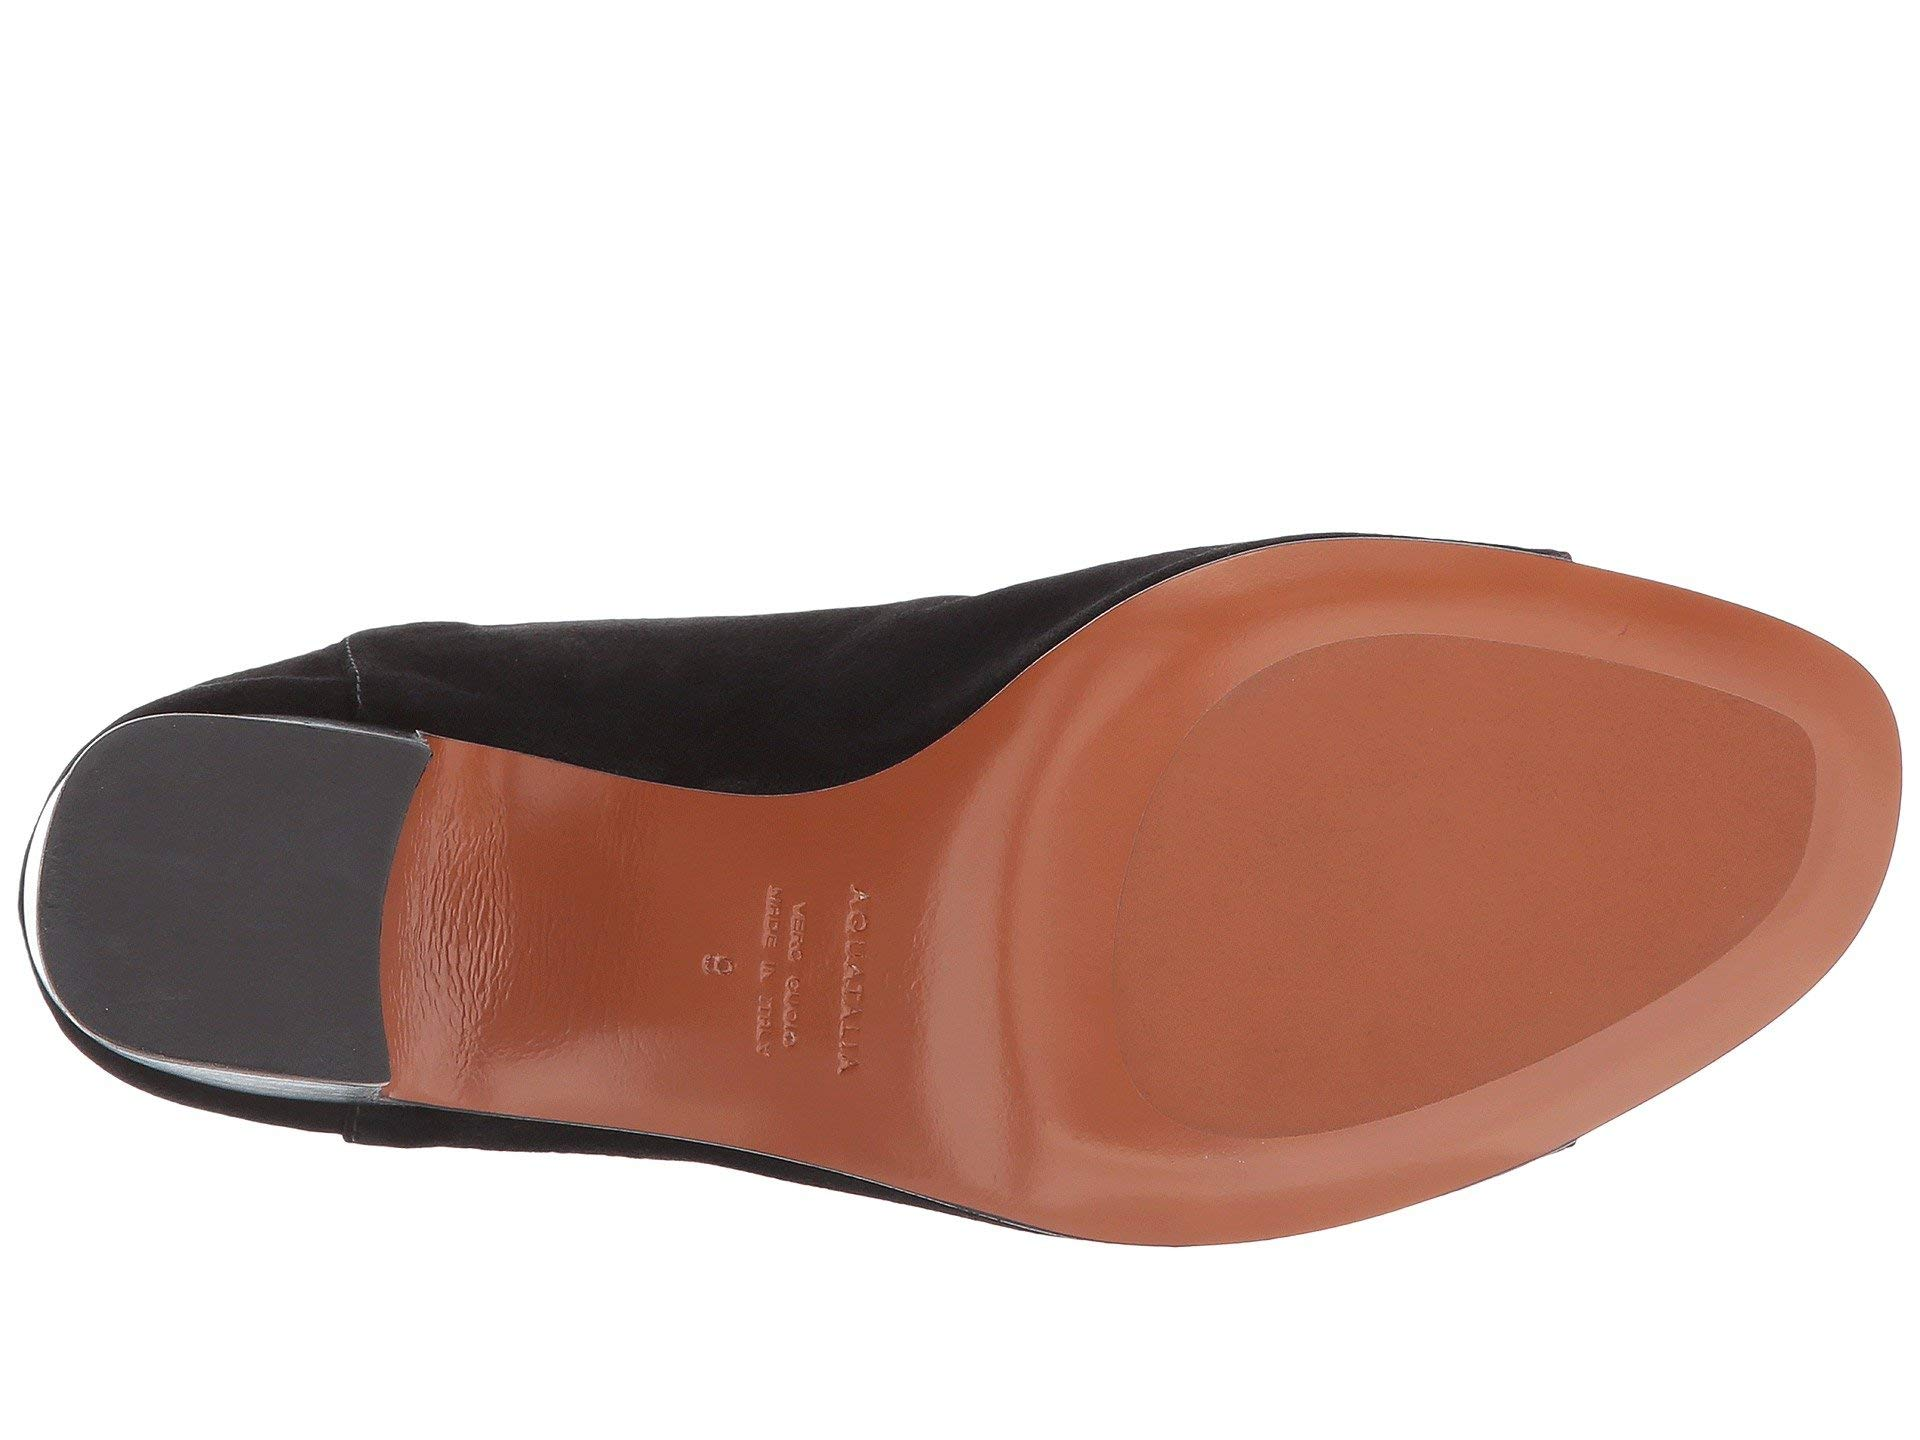text: (633, 812, 927, 1109)
